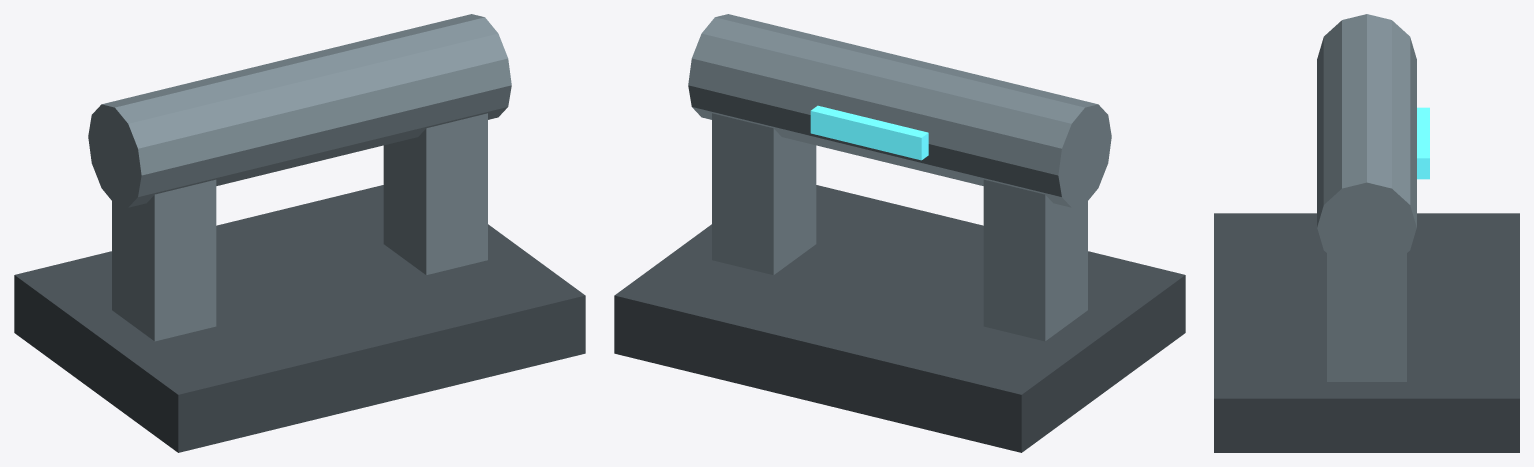
The model's file is Identity-foundry_pipe_support.glb.
3 views of the same model, side by side, from view 1: azimuth 30°, elevation 25°; view 2: azimuth 150°, elevation 25°; view 3: azimuth 270°, elevation 25° (orthographic). The views are drawn at different scales.
Visible parts, largest first — view 1: Foot, PipeClamp, PostL, PostR; view 2: Foot, PipeClamp, PostL, PostR, ClampAccent; view 3: Foot, PipeClamp, PostR, ClampAccent.
Part boxes in pixels (bbox=[...]): Foot: bbox=[14, 185, 585, 452]; PipeClamp: bbox=[88, 14, 511, 207]; PostL: bbox=[112, 179, 216, 341]; PostR: bbox=[383, 113, 487, 275]; Foot: bbox=[614, 185, 1185, 452]; PipeClamp: bbox=[688, 14, 1111, 207]; PostL: bbox=[983, 179, 1087, 341]; PostR: bbox=[712, 113, 816, 275]; ClampAccent: bbox=[810, 105, 928, 160]; Foot: bbox=[1214, 213, 1519, 452]; PipeClamp: bbox=[1317, 14, 1416, 272]; PostR: bbox=[1327, 253, 1406, 381]; ClampAccent: bbox=[1417, 107, 1429, 179].
Bounding box in the file's own units: 1.32 × 0.87 × 0.92.
